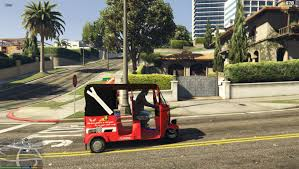tuk tuk: (84, 83, 182, 156)
